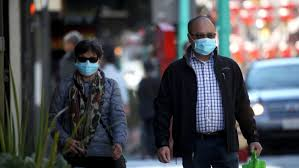mask: (194, 40, 213, 56), (72, 63, 99, 74)
